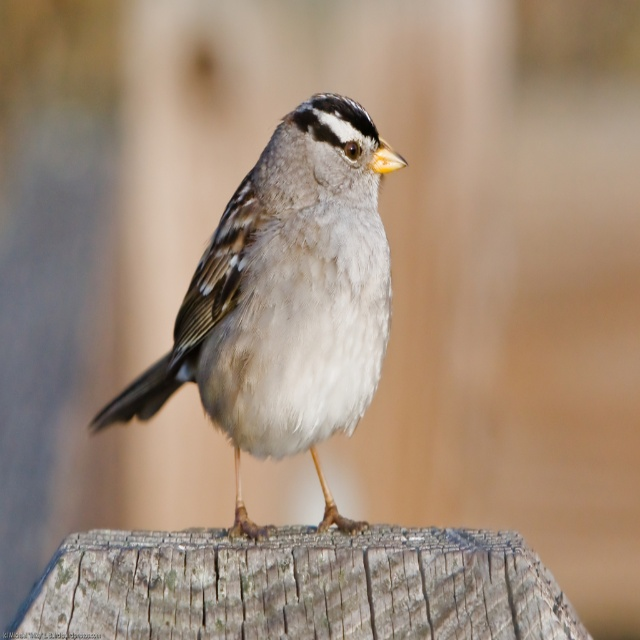Sparrow: (89, 89, 409, 535)
